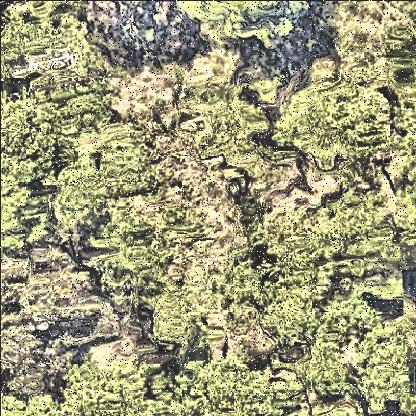tree-top: (263, 193, 407, 313), (3, 79, 121, 169), (55, 130, 163, 228), (277, 78, 385, 171), (174, 356, 305, 416), (1, 1, 101, 77), (93, 213, 175, 298), (14, 256, 103, 326), (56, 362, 170, 416), (192, 91, 277, 163), (1, 152, 50, 270), (172, 2, 303, 44), (356, 322, 413, 414), (146, 280, 207, 351), (298, 333, 354, 405), (2, 327, 58, 396), (209, 250, 269, 314), (385, 25, 416, 91), (1, 388, 63, 416)
